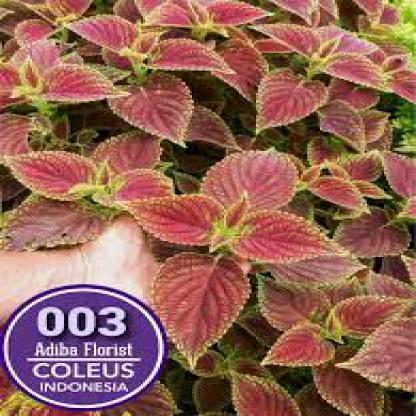Bunga Coleus: (7, 6, 400, 235), (161, 171, 413, 409)
